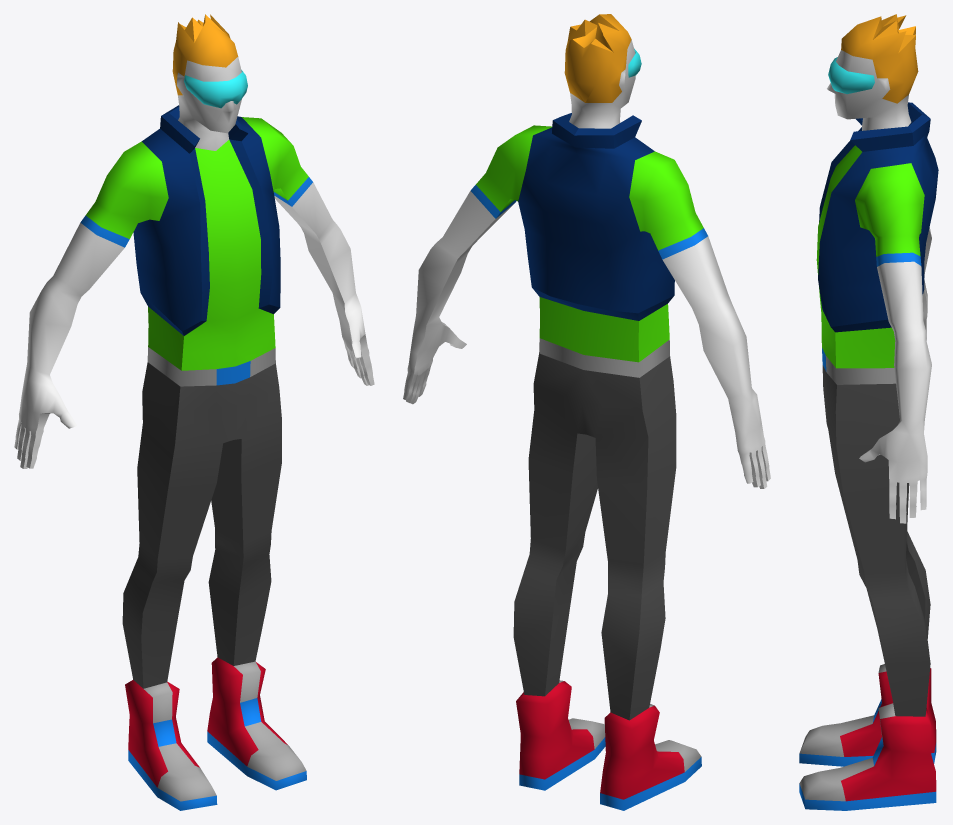
The model's file is Rad_T.FBX.
3 views of the same model, side by side, from view 1: azimuth 30°, elevation 25°; view 2: azimuth 150°, elevation 25°; view 3: azimuth 270°, elevation 25° (orthographic). The views are drawn at different scales.
Visible parts, largest first — view 1: Rad_WorkII; view 2: Rad_WorkII; view 3: Rad_WorkII.
Boxes of the visible parts, bbox=[...] form: Rad_WorkII: bbox=[14, 14, 374, 810]; Rad_WorkII: bbox=[403, 14, 770, 810]; Rad_WorkII: bbox=[799, 14, 938, 810].
Bounding box in the file's own units: 862 × 1771 × 293.
